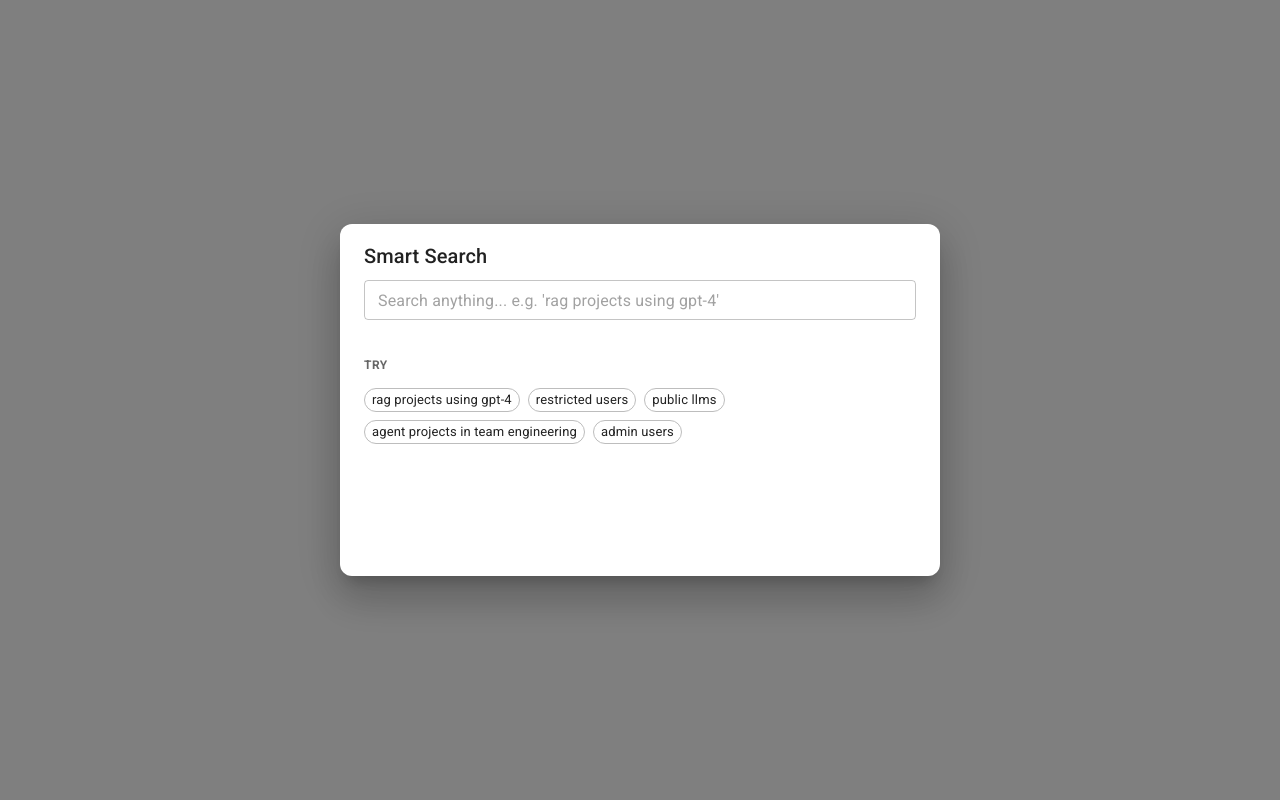
it: SmartSearch › shows the empty state when a structured query returns no rows
This screenshot has width=1280, height=800.
Type "users named zorp" into the field with placeholder "Search anything... e.g. 'rag projects using gpt-4'". click: point(640, 300)
box: [364, 280, 916, 320]
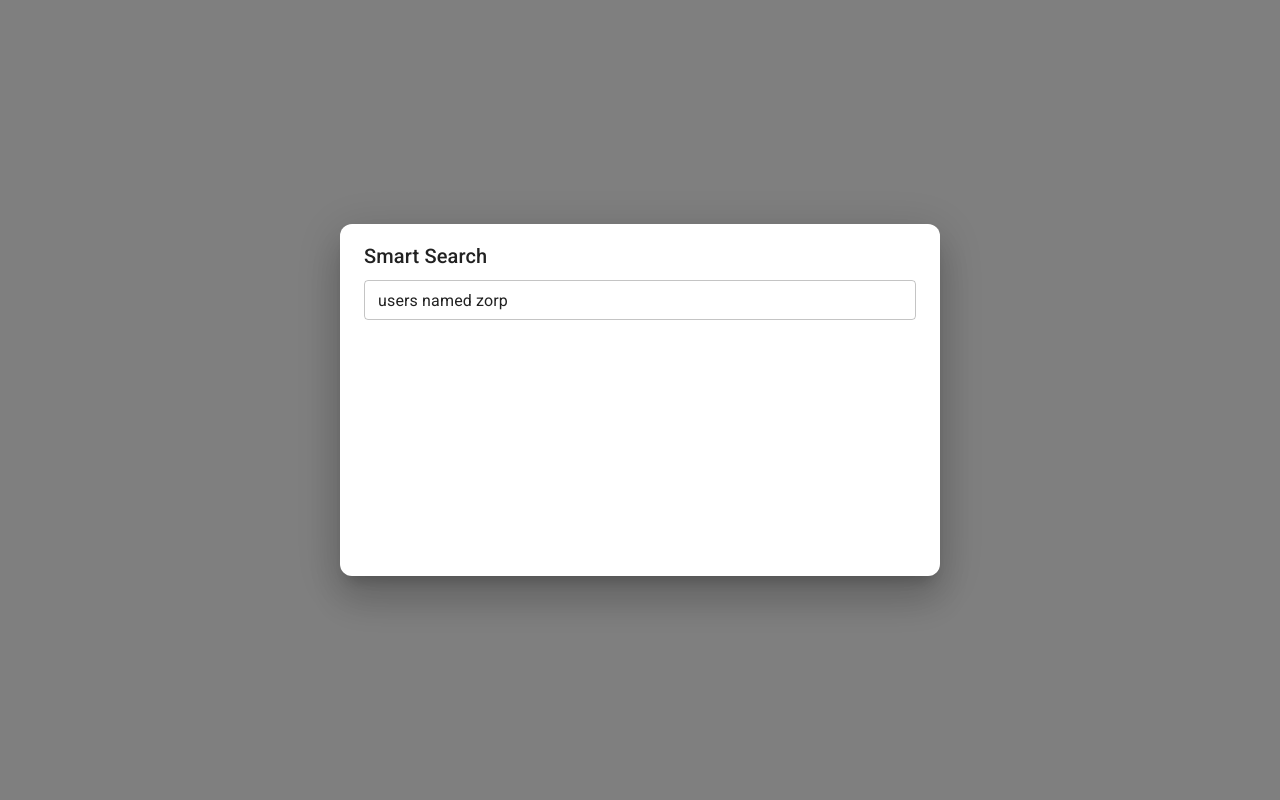
Press Enter in the field with placeholder "Search anything... e.g. 'rag projects using gpt-4'", box [364, 280, 916, 320]
Wait 800 ms
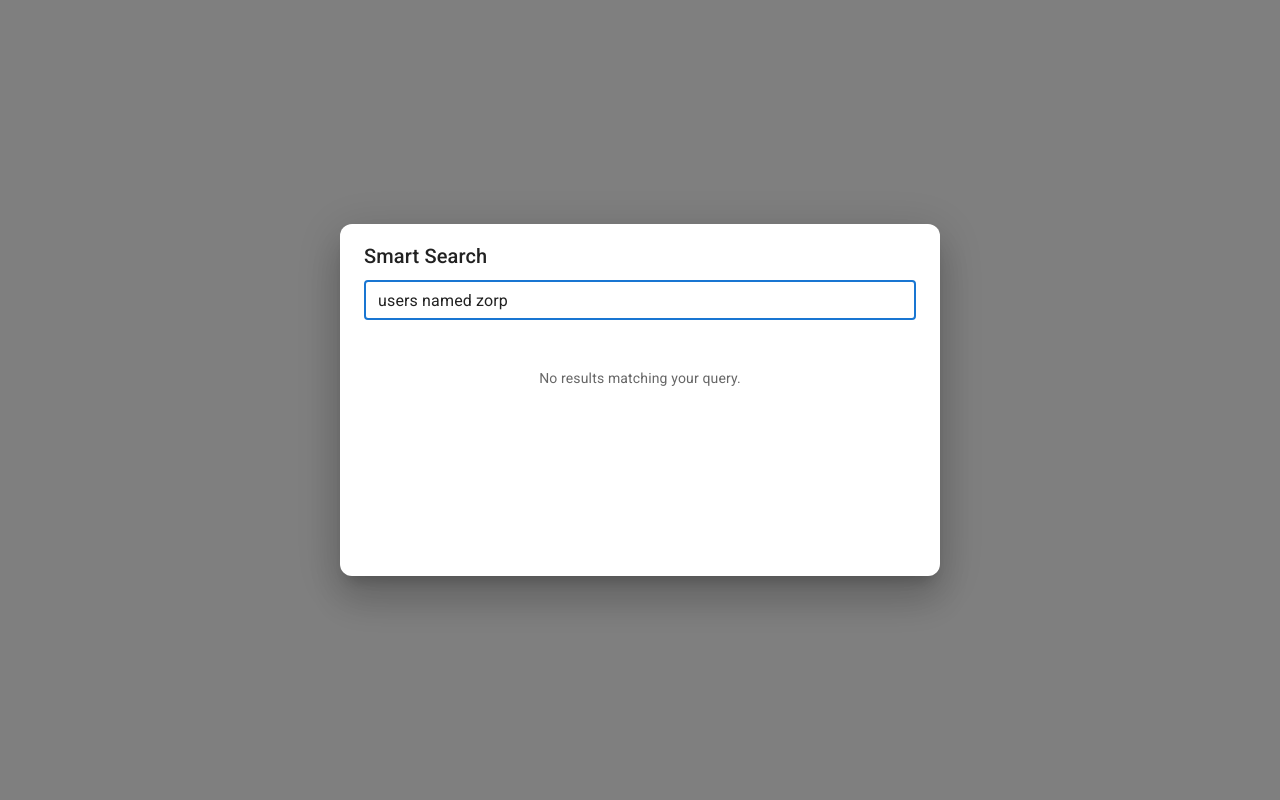
Expected: the text "No results matching your query." is shown, [539, 370, 741, 386]
